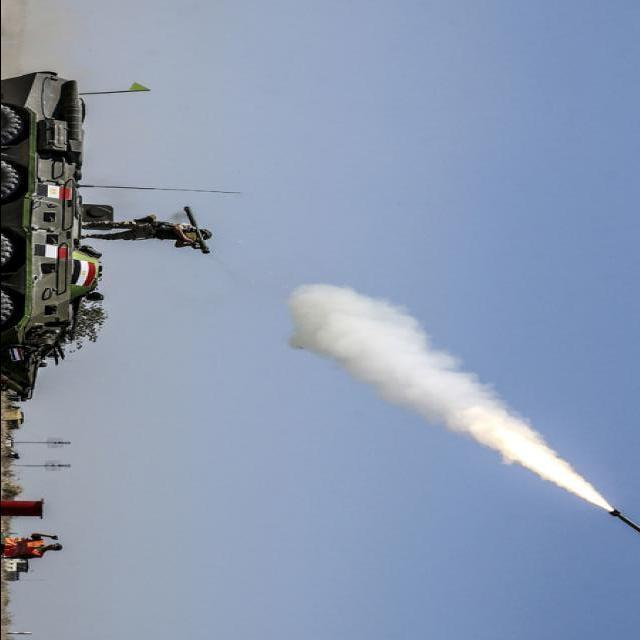missile: (604, 507, 640, 541)
